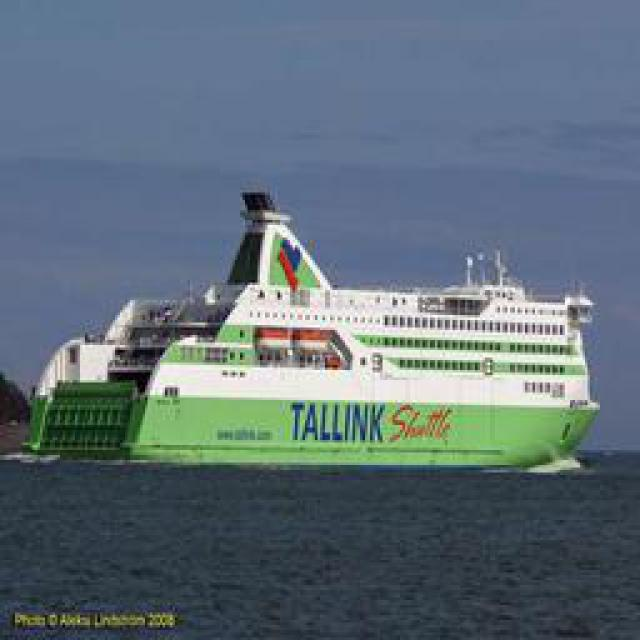Ship: (76, 187, 599, 465)
